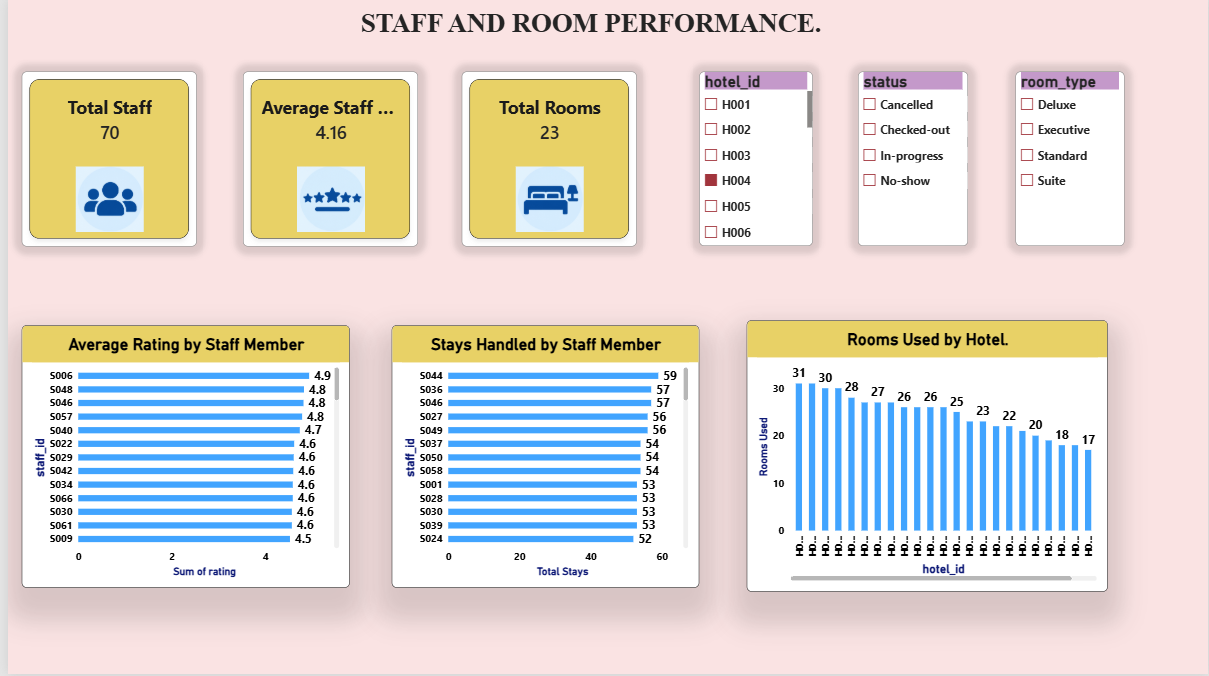

This screenshot's page, from the dashboard's own definition file:
{"tool":"powerbi","page":{"name":"Staff and room performance","canvas":[1920,1080],"ordinal":5},"visuals":[{"type":"cardVisual","fields":{"Data":["staff.Total Staff"]},"box":[21.7,115,280,280],"z":0},{"type":"cardVisual","fields":{"Data":["staff.Average Staff Rating"]},"box":[375,115,280,280],"z":2},{"type":"cardVisual","fields":{"Data":["staff.Total Rooms"]},"box":[725,115,280,280],"z":3},{"type":"textbox","box":[415,13.3,1030,101.7],"z":4},{"type":"clusteredBarChart","title":"Average Rating by Staff Member","fields":{"Category":["staff.staff_id"],"Y":["Sum(staff.rating)"]},"box":[21.7,521.7,525,420],"z":5},{"type":"clusteredBarChart","title":"Stays Handled by Staff Member","fields":{"Category":["staff.staff_id"],"Y":["stays.Total Stays"]},"box":[613.3,521.7,491.7,420],"z":6},{"type":"clusteredColumnChart","title":"Rooms Used by Hotel.","fields":{"Category":["hotels.hotel_id"],"Y":["rooms.Rooms Used"]},"box":[1182.6,514.5,577.3,434.3],"z":7},{"type":"slicer","fields":{"Values":["rooms.hotel_id"]},"box":[1105.8,116.9,181.4,279.1],"z":8},{"type":"slicer","fields":{"Values":["stays.status"]},"box":[1360.5,116.9,176.2,279.1],"z":9},{"type":"slicer","fields":{"Values":["rooms.room_type"]},"box":[1611.6,116.9,174.4,279.1],"z":10}]}

Visuals, with their boxes in screenshot pixels (x1, y1, x2, y2), scaled from the page's 1920x1080 canvas onto the 1209x676 screenshot:
cardVisual - staff.Total Staff: 14 72 190 247
cardVisual - staff.Average Staff Rating: 236 72 412 247
cardVisual - staff.Total Rooms: 457 72 633 247
textbox: 261 8 910 72
"Average Rating by Staff Member" clusteredBarChart: 14 327 344 589
"Stays Handled by Staff Member" clusteredBarChart: 386 327 696 589
"Rooms Used by Hotel." clusteredColumnChart: 745 322 1108 594
slicer - rooms.hotel_id: 696 73 811 248
slicer - stays.status: 857 73 968 248
slicer - rooms.room_type: 1015 73 1125 248
